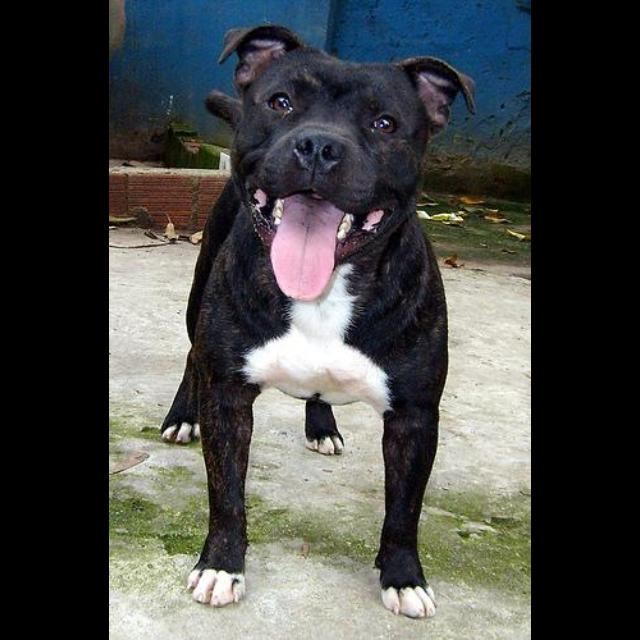amstaff: (161, 23, 478, 619)
